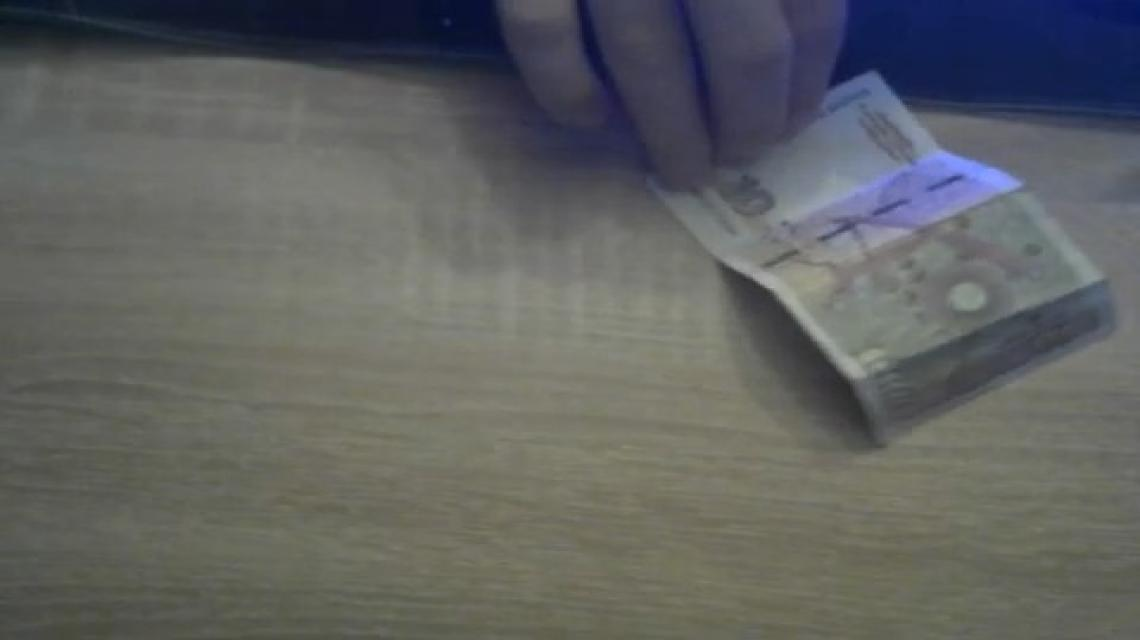10leva: (646, 73, 1119, 453)
